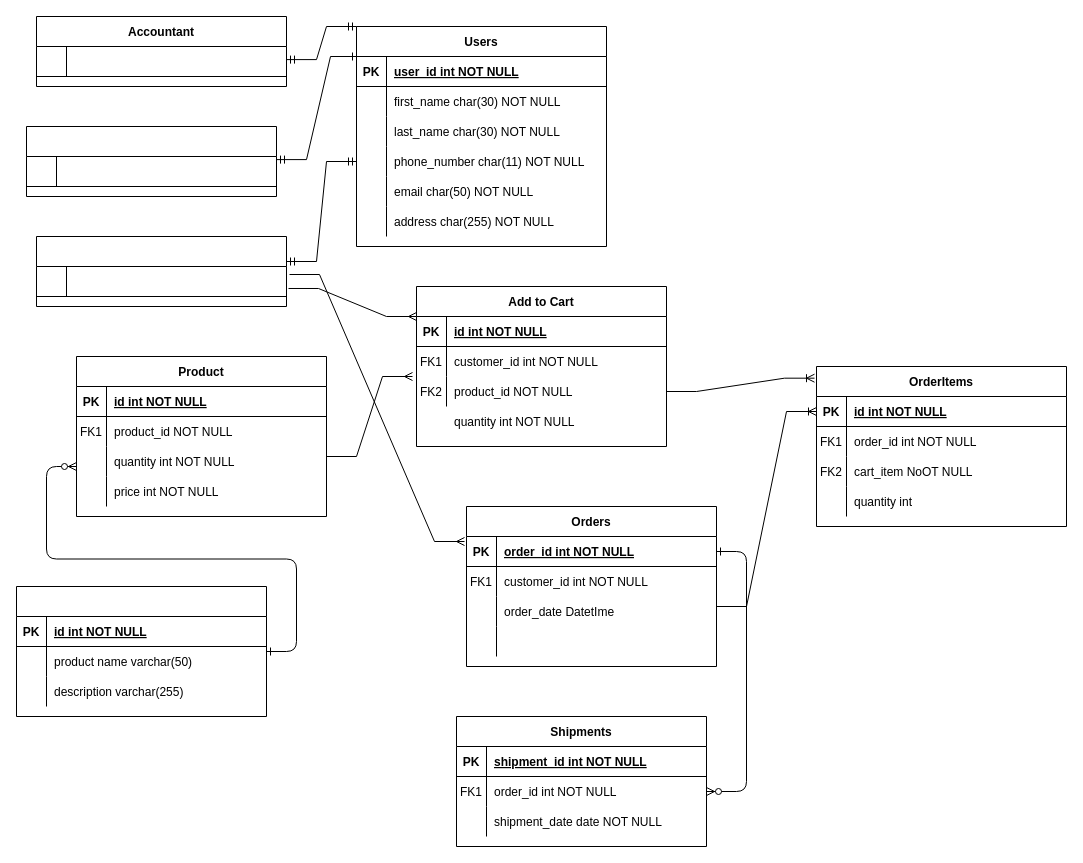
Image size: 1083x863. Some labels were removed from this diagram. The box of each missing label's shape, as (x1, y1, x2, y2) in pixels:
Admin: (26, 126, 276, 196)
Customer: (36, 236, 286, 306)
Product Category: (16, 586, 266, 716)
